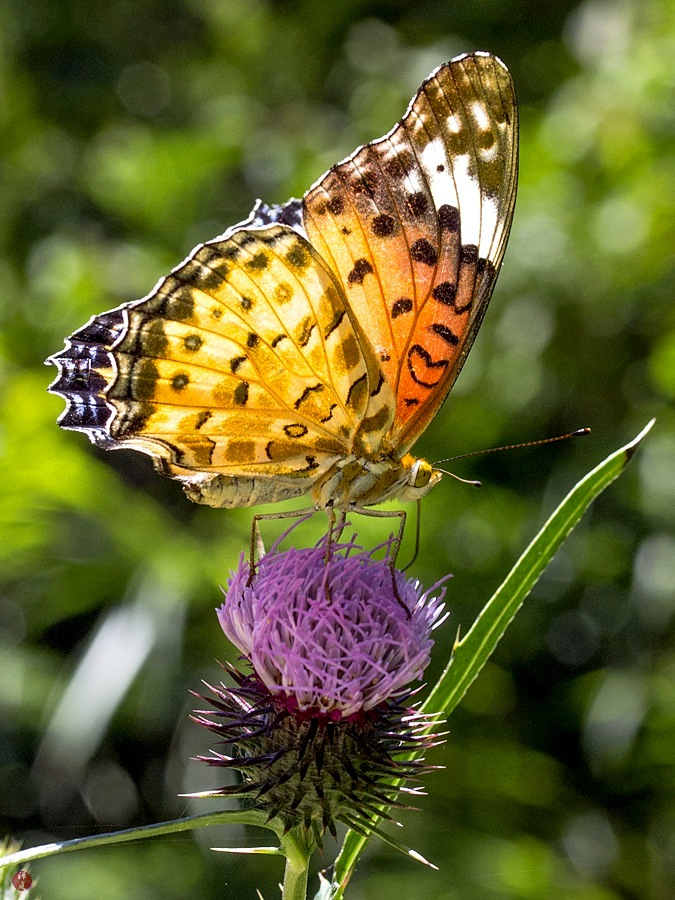Argyreus hyperbius: (34, 37, 596, 618)
butterfly: (36, 39, 598, 620)
